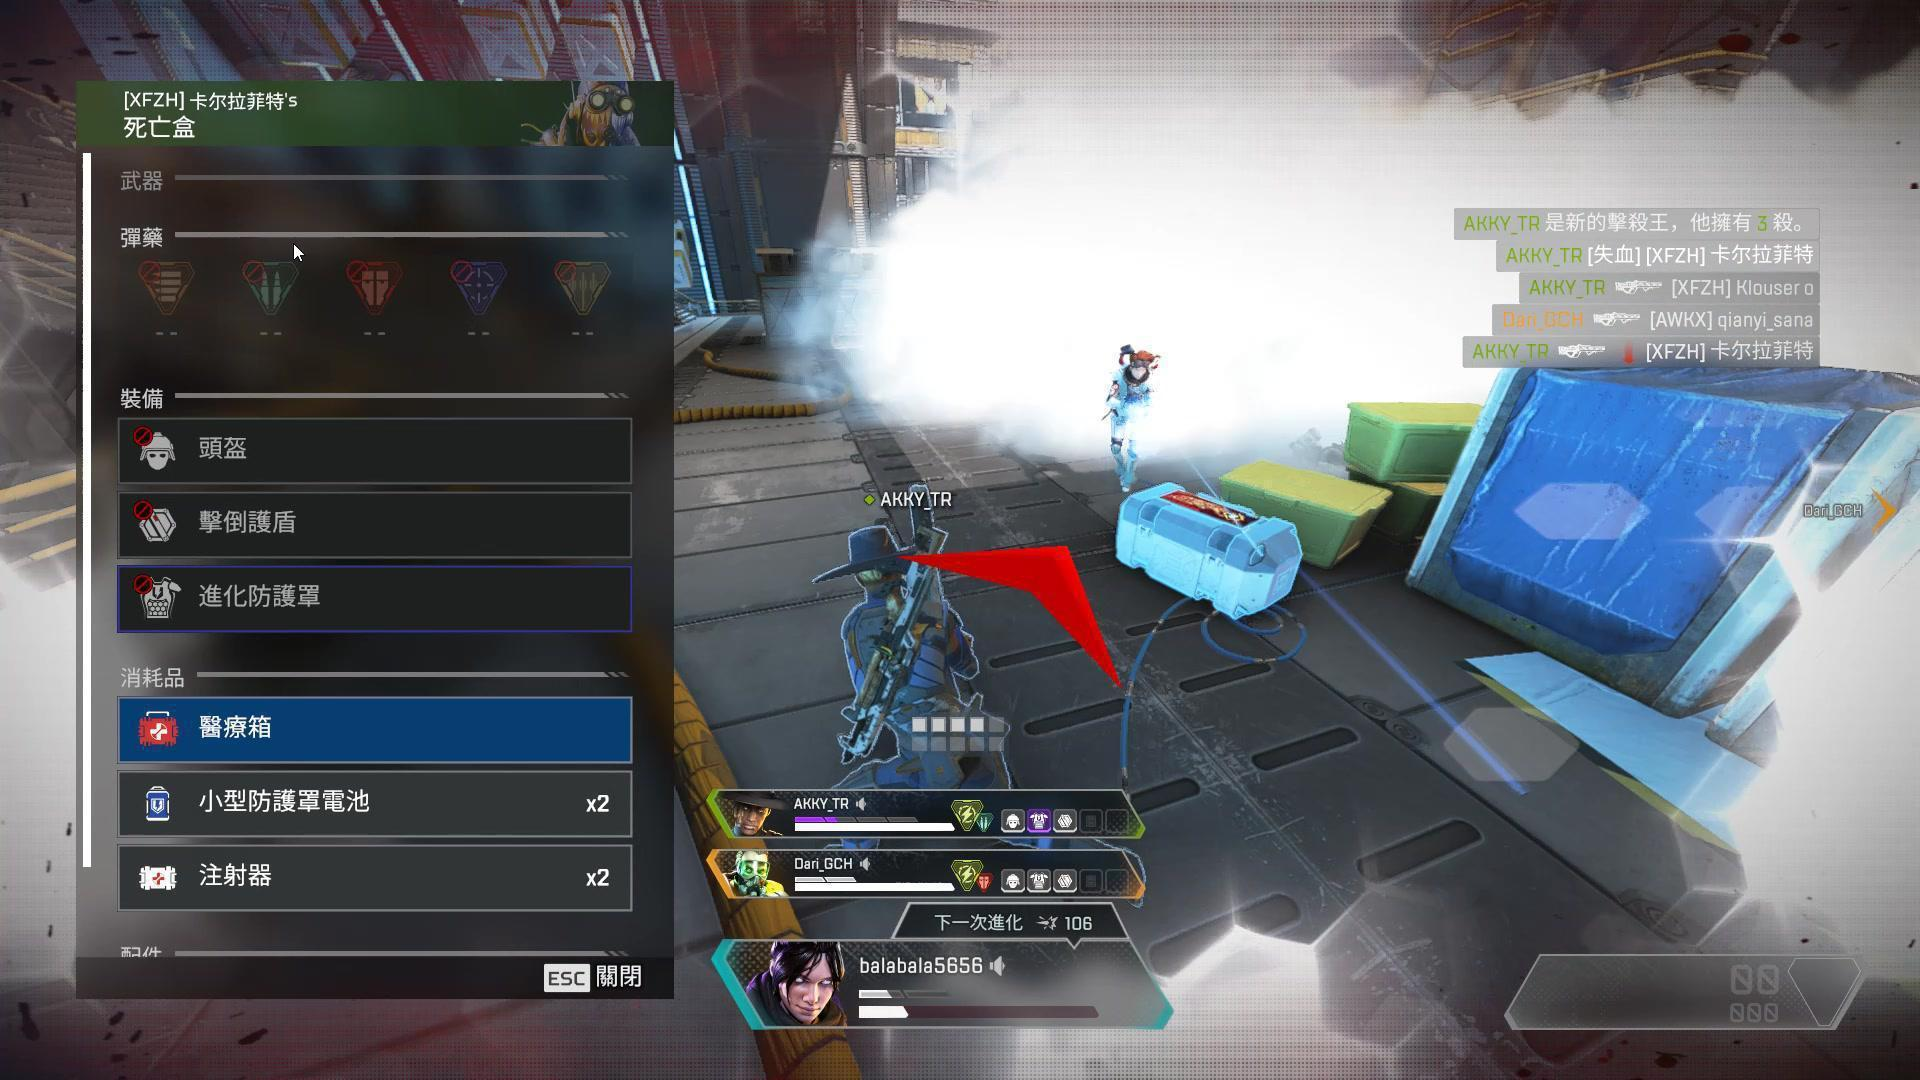avatar: (837, 520, 982, 790), (1101, 342, 1160, 495)
